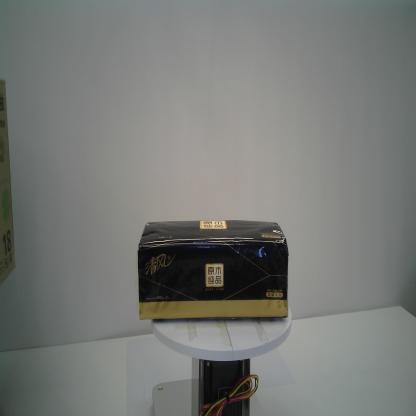Tissue: (136, 217, 289, 321)
